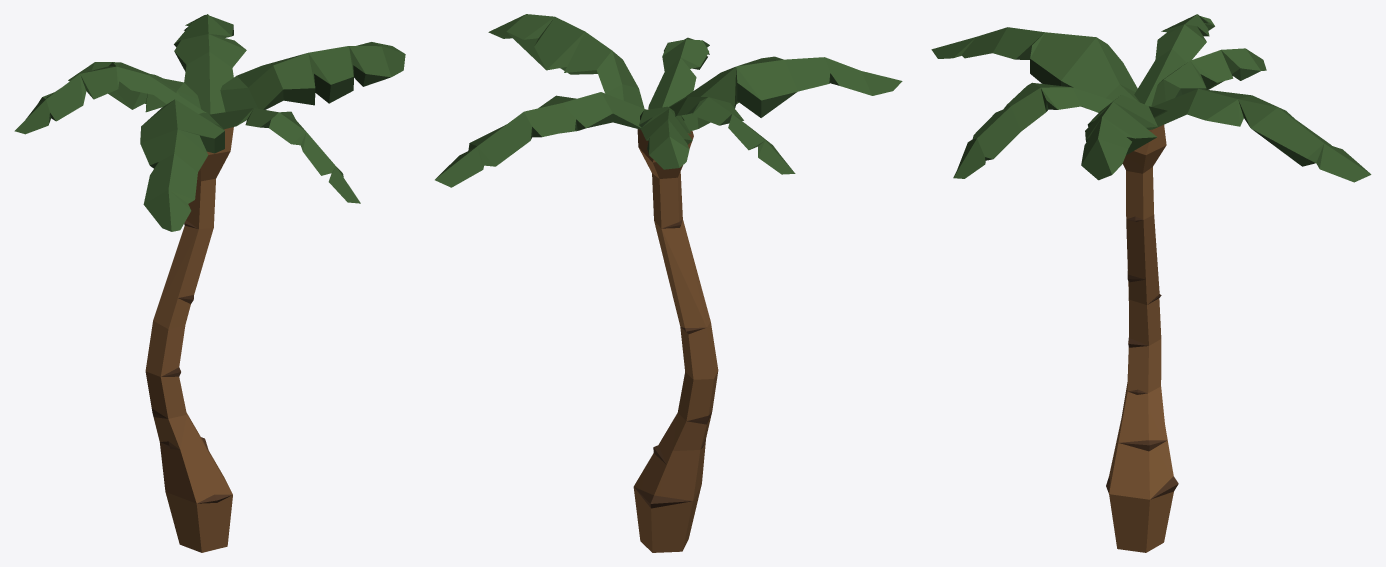
File: PalmTree_02.glb
The picture shows the model from 3 angles, left to right: view 1: azimuth 30°, elevation 25°; view 2: azimuth 150°, elevation 25°; view 3: azimuth 270°, elevation 25°; orthographic projection. The views are drawn at different scales.
Parts seen in each view (by area): view 1: PalmTree_02; view 2: PalmTree_02; view 3: PalmTree_02.
Part boxes in pixels (x1,y1,x2,y2): PalmTree_02: [14, 14, 405, 552]; PalmTree_02: [435, 14, 902, 552]; PalmTree_02: [931, 14, 1371, 552].
Size of what is drawn, in the model's own units: 5.77 by 7.58 by 6.18.
1 material, 1 textured.
